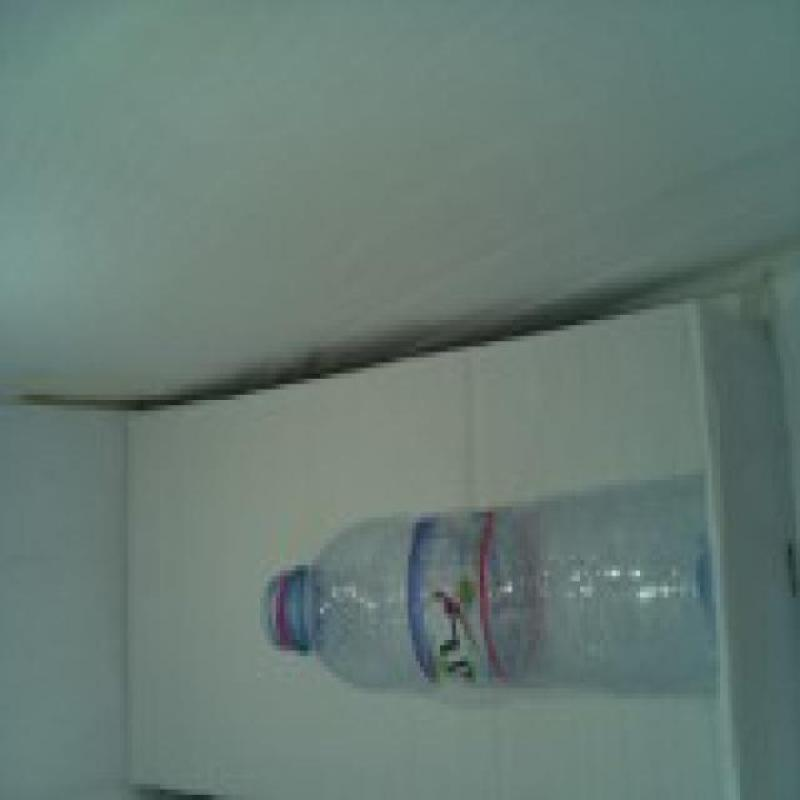botella: (262, 472, 717, 698)
